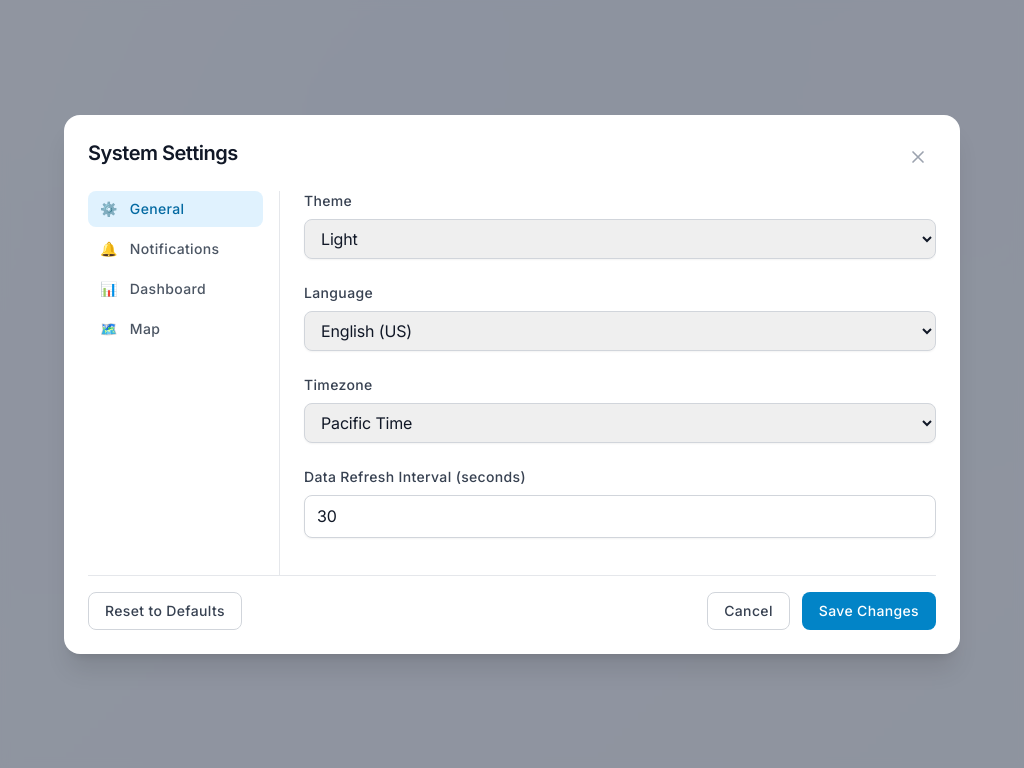
Test case: SettingsPanel › switches to map tab when clicked
The width and height of the screenshot is (1024, 768).
Click the button "🗺️ Map".
click(176, 328)  # box [88,310,263,346]
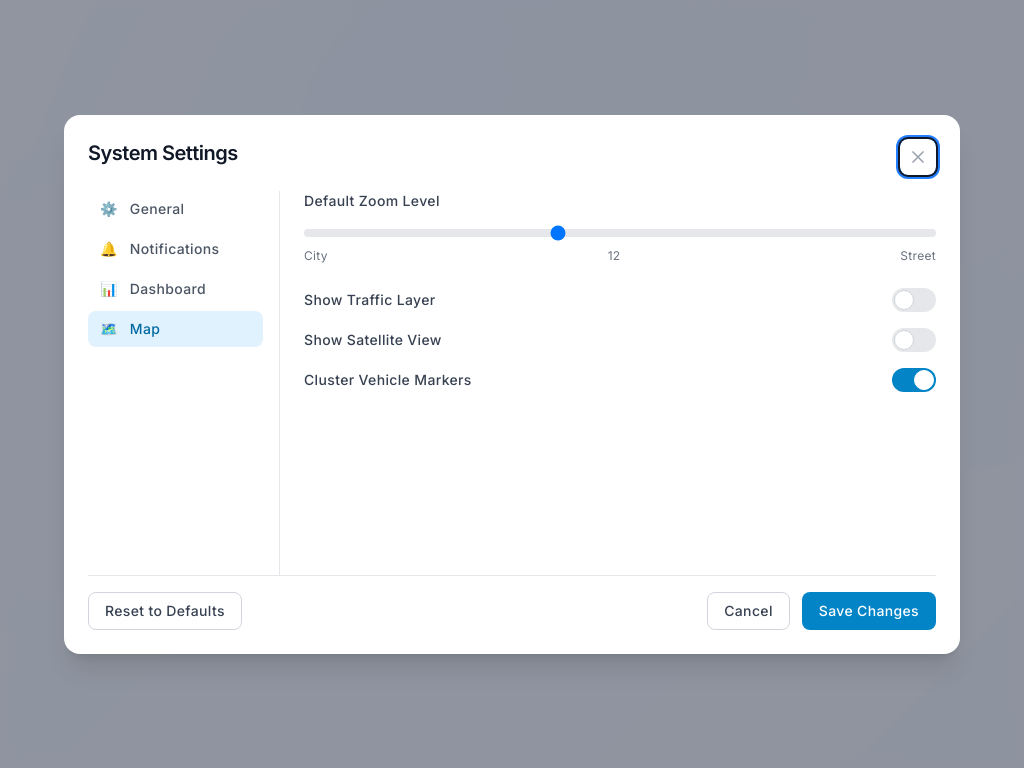
Check: the text "Default Zoom Level" is shown, box [304,192,440,208]
Check: the text "Show Traffic Layer" is shown, box [304,290,436,310]
Check: the text "Show Satellite View" is shown, box [304,330,442,350]
